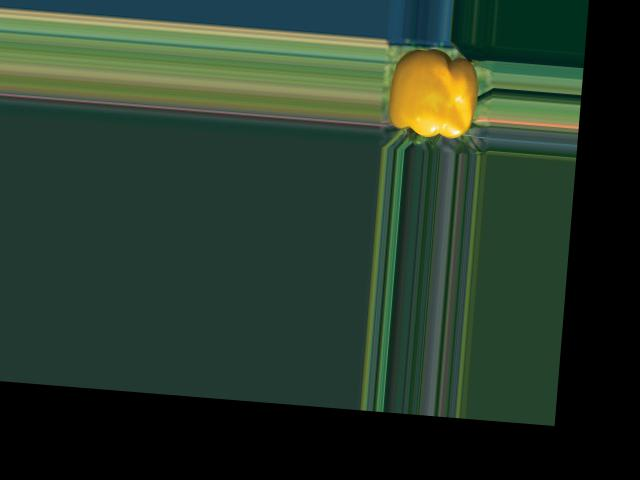bell_pepper: (380, 44, 488, 149)
